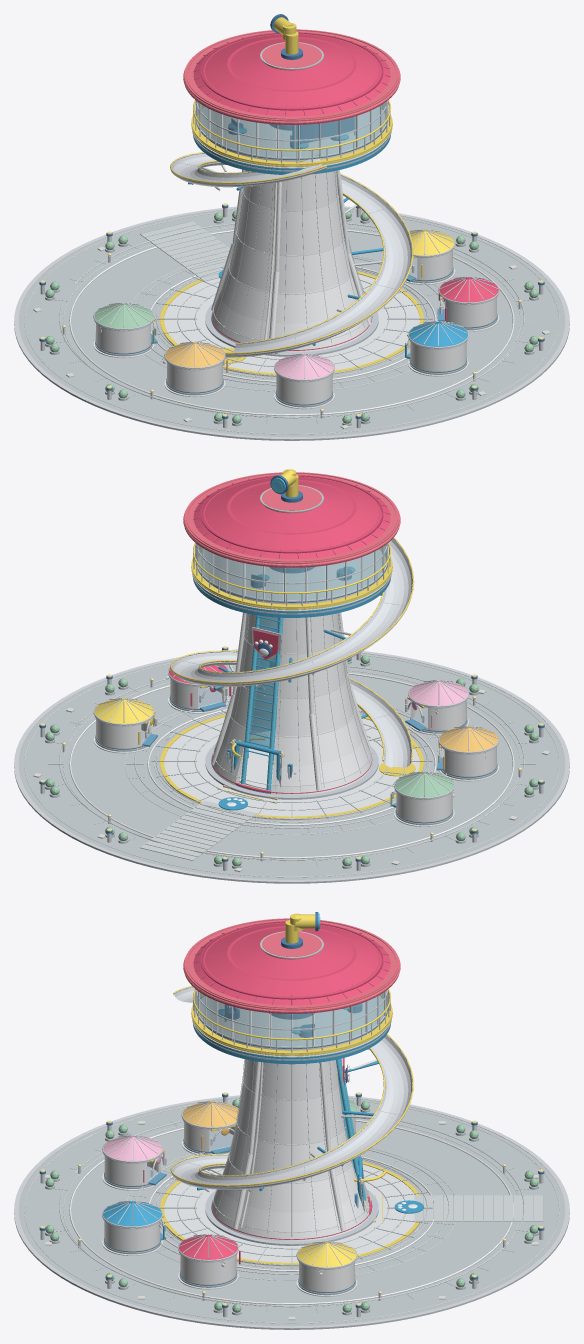
The model's file is Blockwelt_V148_Aussenmodell_Test.glb.
3 renders of one model, top to bottom at view 1: azimuth 30°, elevation 25°; view 2: azimuth 150°, elevation 25°; view 3: azimuth 270°, elevation 25°, orthographic.
Parts seen in each view (by area): view 1: HQ_road, HQ_shell, HQ_silver, HQ_enamel, HQ_red, HQ_floor, HQ_paving, HQ_gold, HQ_glass, HQ_redrim, HQ_paveCream, HQ_green (+14 smaller); view 2: HQ_road, HQ_silver, HQ_shell, HQ_floor, HQ_red, HQ_enamel, HQ_paving, HQ_gold, HQ_glass, HQ_redrim, HQ_paveCream, HQ_coolshadow (+17 smaller); view 3: HQ_road, HQ_shell, HQ_silver, HQ_red, HQ_floor, HQ_enamel, HQ_paving, HQ_gold, HQ_glass, HQ_redrim, HQ_blue, HQ_paveCream (+15 smaller).
Boxes of the visible parts, box(x1,y1,x2,y2) form: HQ_road: box(14, 208, 569, 440); HQ_shell: box(211, 170, 372, 352); HQ_silver: box(14, 100, 569, 439); HQ_enamel: box(69, 162, 514, 415); HQ_red: box(193, 33, 498, 350); HQ_floor: box(93, 106, 499, 409); HQ_paving: box(59, 221, 524, 417); HQ_gold: box(153, 100, 454, 375); HQ_glass: box(197, 101, 385, 157); HQ_redrim: box(183, 29, 400, 123); HQ_paveCream: box(24, 210, 559, 434); HQ_green: box(45, 210, 538, 423); HQ_road: box(14, 653, 569, 883); HQ_silver: box(14, 539, 569, 882); HQ_shell: box(211, 613, 372, 795); HQ_floor: box(93, 549, 499, 826); HQ_red: box(169, 476, 390, 793); HQ_enamel: box(69, 603, 514, 858); HQ_paving: box(59, 666, 524, 860); HQ_gold: box(94, 537, 441, 818); HQ_glass: box(198, 544, 386, 600); HQ_redrim: box(183, 472, 400, 566); HQ_paveCream: box(24, 654, 559, 877); HQ_coolshadow: box(95, 571, 497, 860); HQ_road: box(14, 1097, 569, 1329); HQ_shell: box(211, 1059, 369, 1241); HQ_silver: box(14, 987, 569, 1328); HQ_red: box(179, 922, 390, 1264); HQ_floor: box(102, 995, 419, 1296); HQ_enamel: box(69, 994, 513, 1304); HQ_paving: box(59, 1116, 542, 1306); HQ_gold: box(150, 986, 423, 1267); HQ_glass: box(197, 990, 386, 1046); HQ_redrim: box(183, 918, 400, 1012); HQ_blue: box(103, 1007, 423, 1239); HQ_paveCream: box(24, 1099, 559, 1323).
Size of the model in its own units: 47.4 by 28.17 by 47.4.
